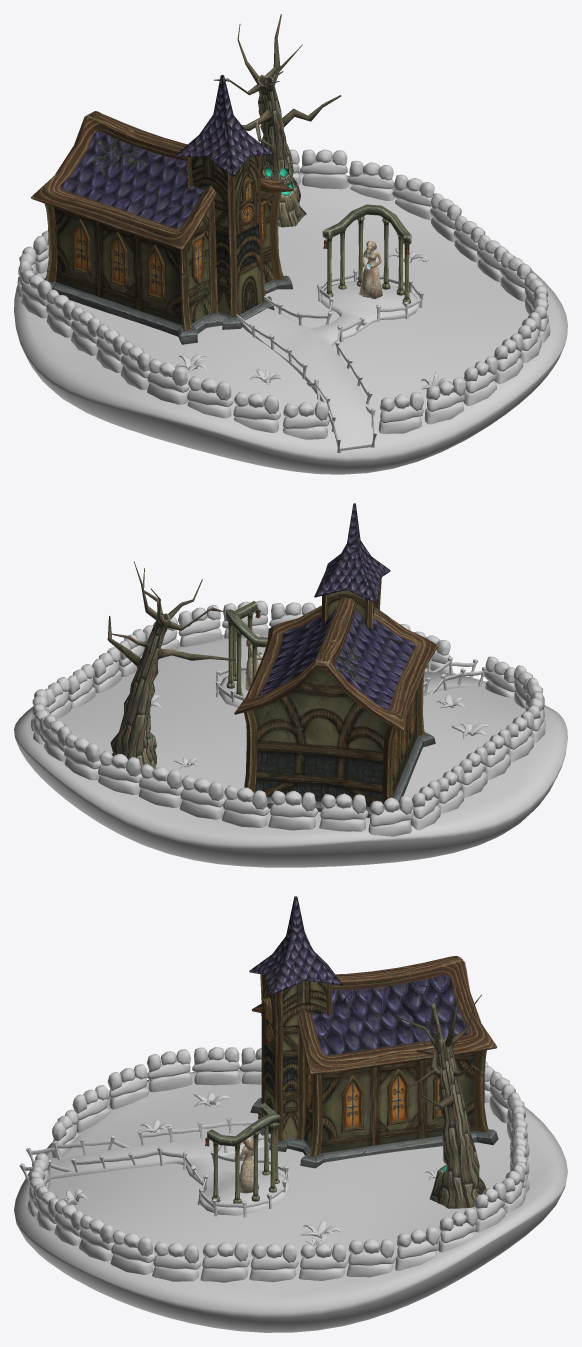
The model's file is gilneas.fbx.
3 renders of one model, top to bottom at view 1: azimuth 30°, elevation 25°; view 2: azimuth 150°, elevation 25°; view 3: azimuth 270°, elevation 25°, orthographic.
Parts seen in each view (by area): view 1: Ground001, Chapel001, Tree001, Pavilion001, Statue001; view 2: Ground001, Chapel001, Tree001, Pavilion001; view 3: Ground001, Chapel001, Tree001, Pavilion001, Statue001.
Boxes of the visible parts, <box> form: Ground001: <box>14,149,567,474</box>; Chapel001: <box>31,74,293,344</box>; Tree001: <box>214,14,341,227</box>; Pavilion001: <box>322,204,411,304</box>; Statue001: <box>359,240,382,298</box>; Ground001: <box>14,600,567,867</box>; Chapel001: <box>234,503,438,817</box>; Tree001: <box>107,561,235,768</box>; Pavilion001: <box>226,601,267,696</box>; Ground001: <box>14,1047,567,1332</box>; Chapel001: <box>249,896,498,1168</box>; Tree001: <box>391,994,486,1208</box>; Pavilion001: <box>205,1103,280,1203</box>; Statue001: <box>239,1136,258,1193</box>.
Bounding box in the file's own units: 199 × 130 × 199.
